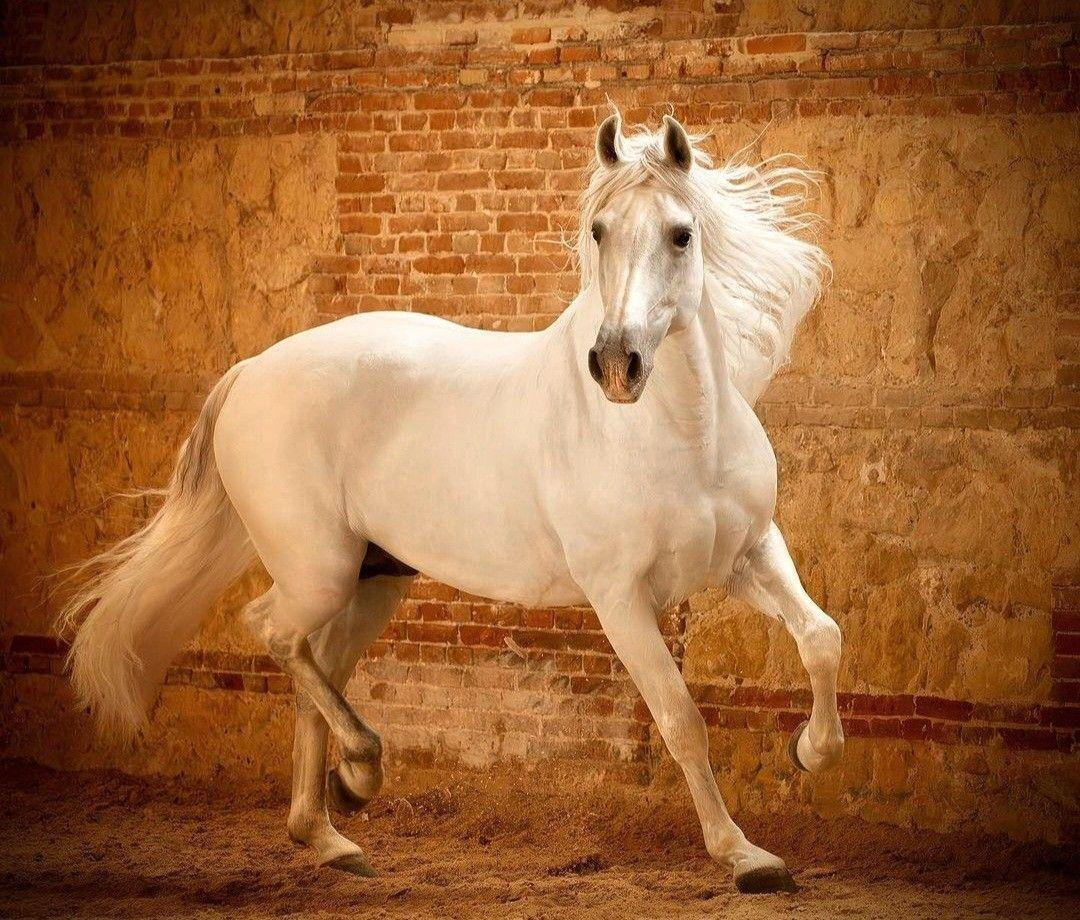horse: (36, 96, 846, 892)
